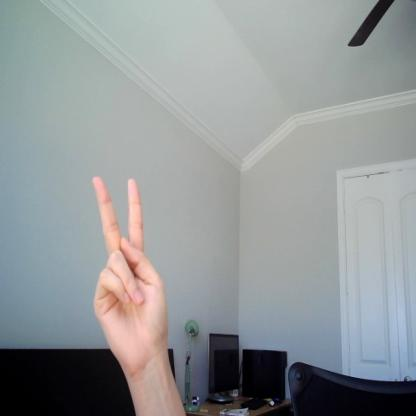K: (84, 175, 171, 373)
